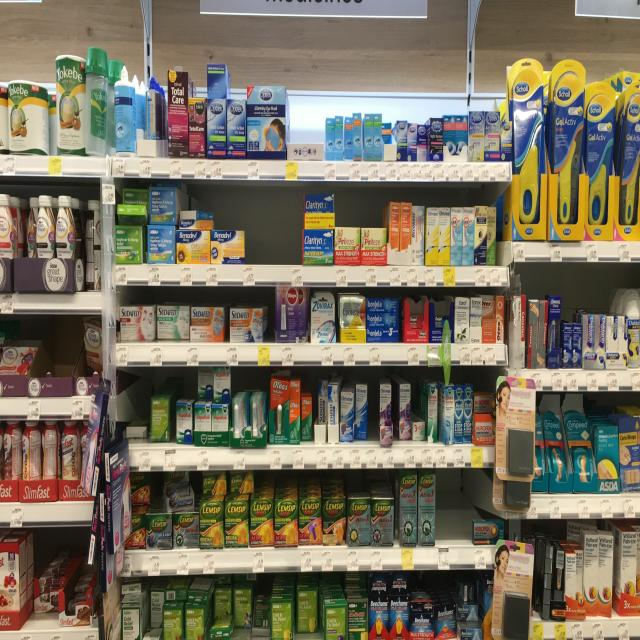void: (35, 314, 82, 394), (250, 193, 297, 260), (438, 470, 470, 536), (298, 86, 324, 155)
